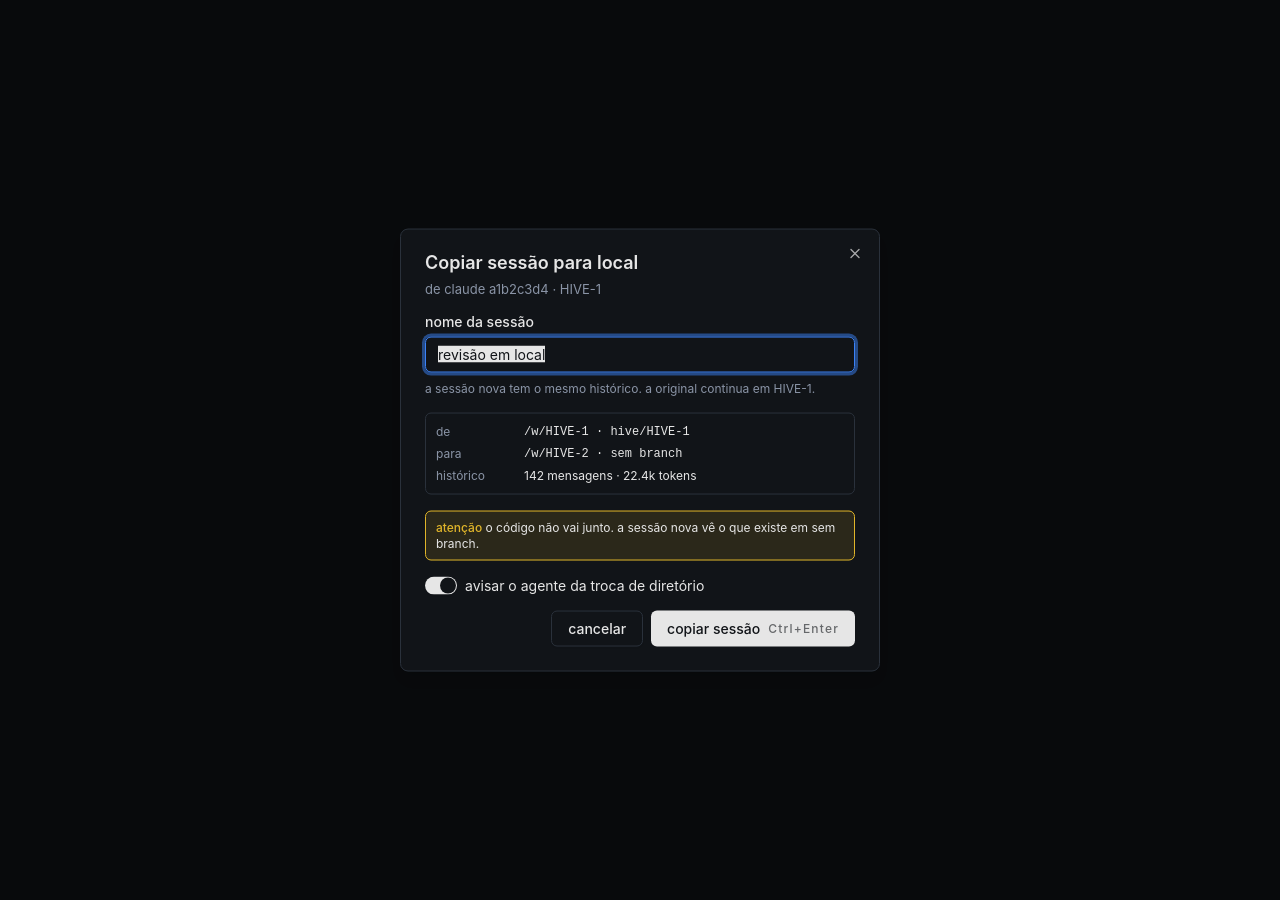
a refused copy shows the server's words and keeps the dialog open (#587)
Click the button "copiar sessão Ctrl+Enter".
click(753, 628)  # box [651,610,855,646]
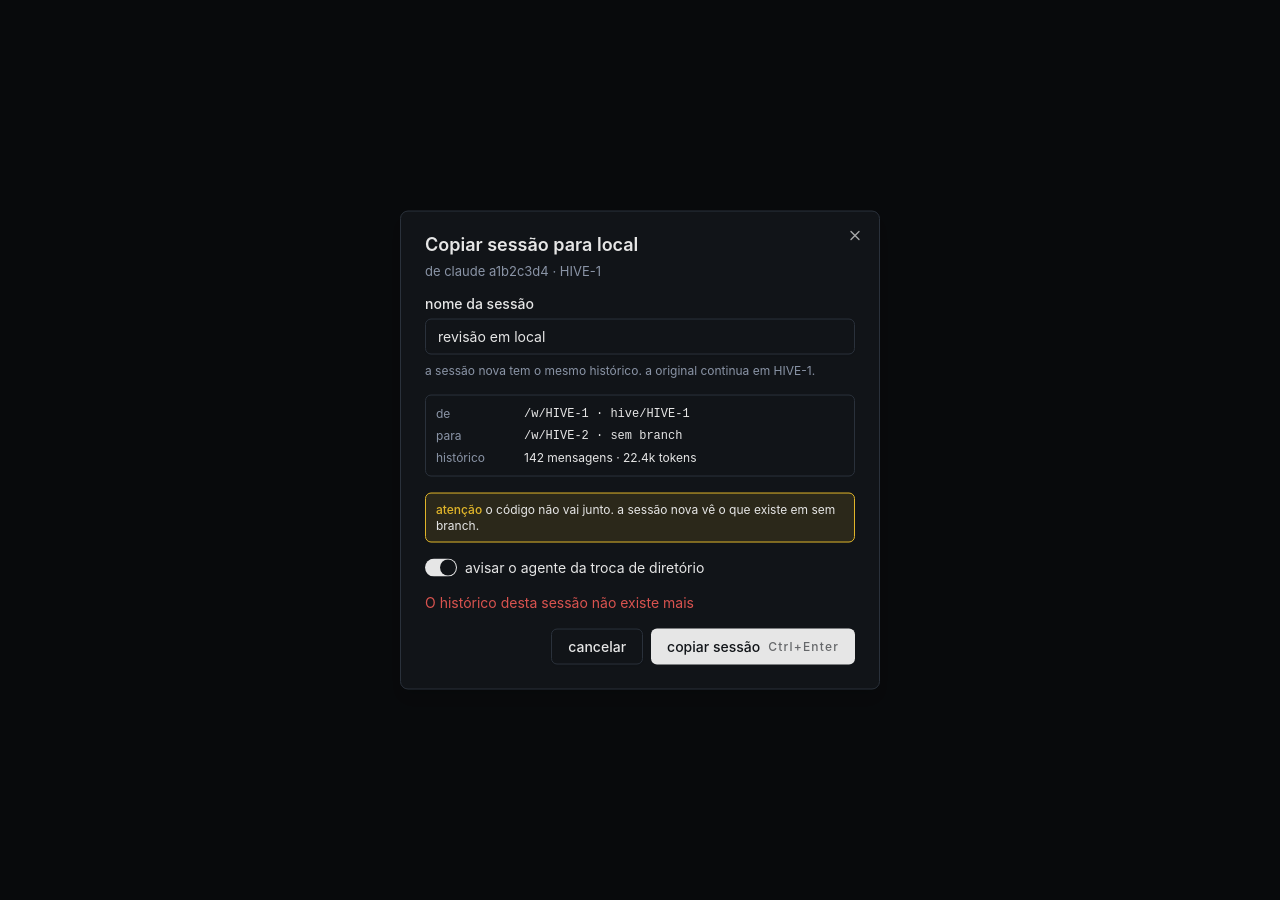
Expected: the message reads "O histórico desta sessão não existe mais", [425,594,694,610]
